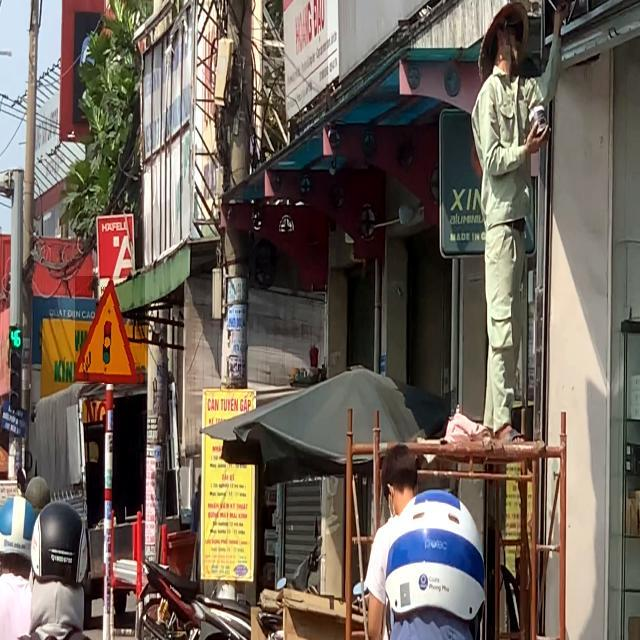W-209: (75, 277, 145, 385)
